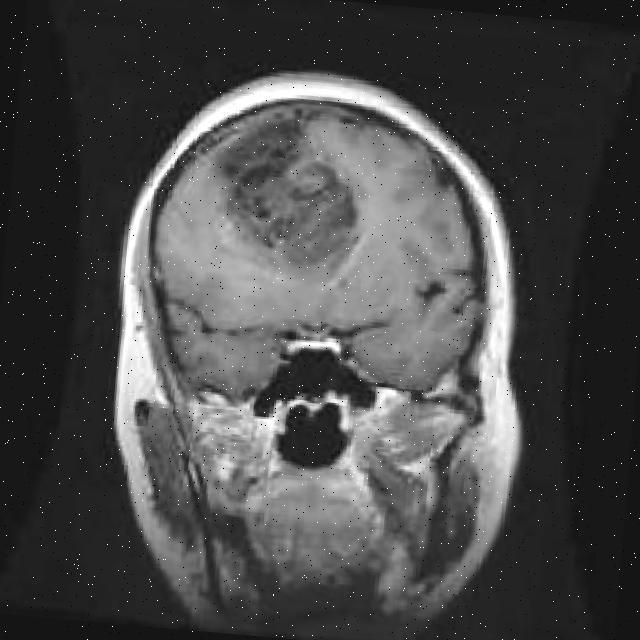MCI: (201, 138, 404, 280)
